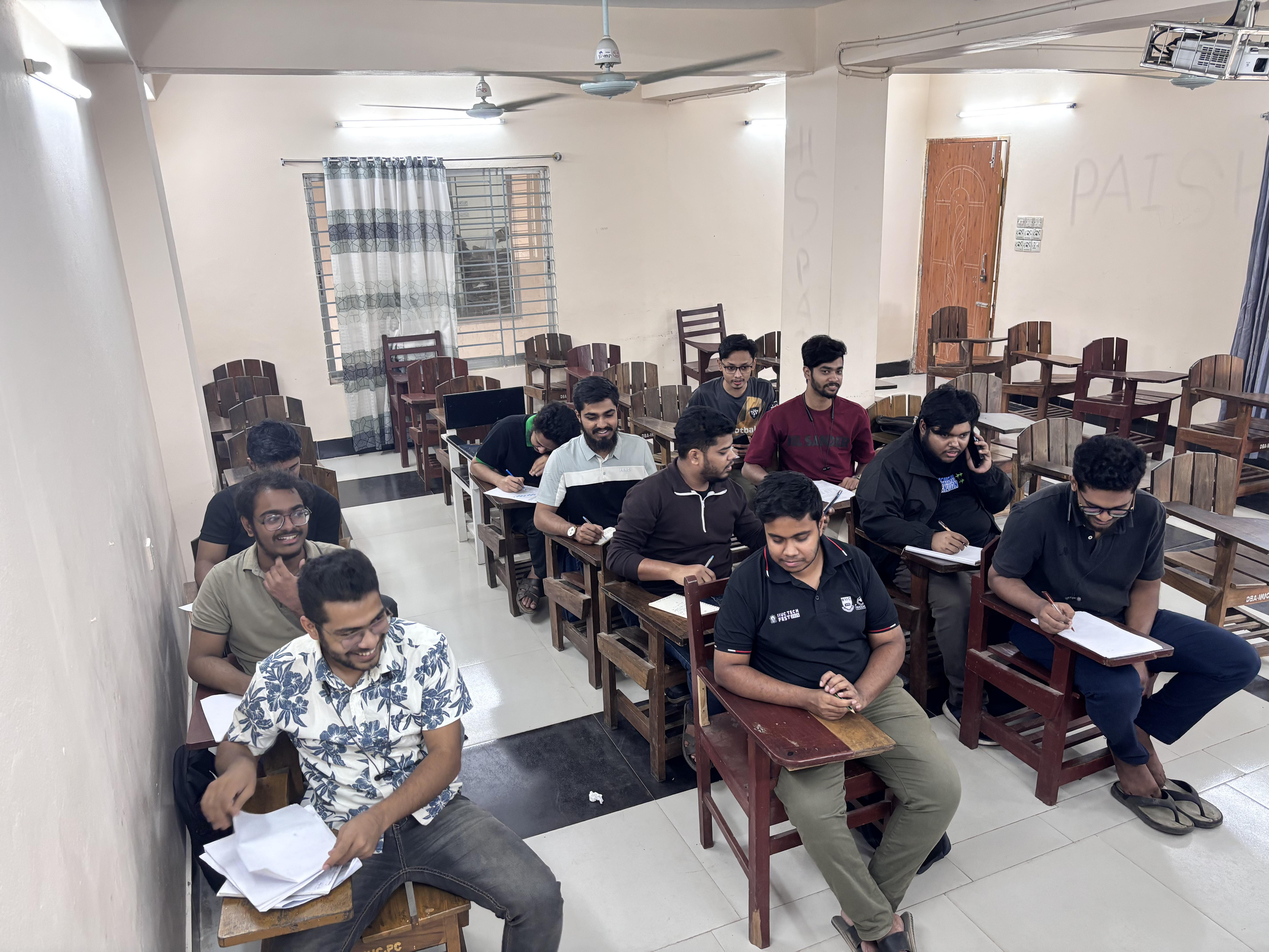no_cheating: (704, 496, 902, 784), (995, 440, 1184, 708), (752, 336, 899, 519), (533, 374, 657, 590), (455, 395, 571, 516), (679, 325, 785, 442)
suspicious_moving: (162, 572, 502, 952), (193, 478, 347, 716)
using_phone: (854, 385, 1033, 571)
